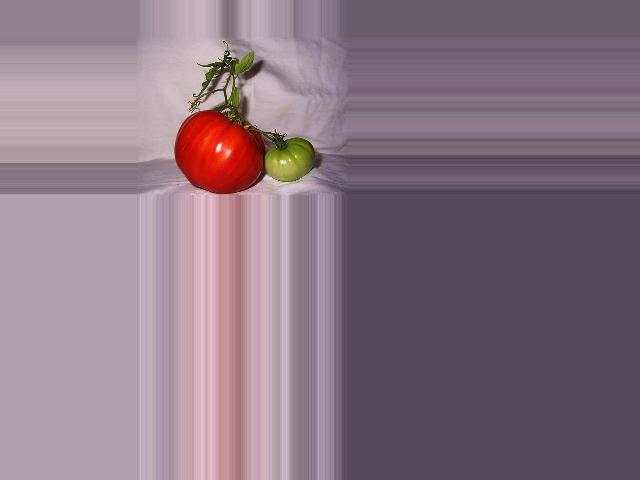tomato: (174, 110, 265, 193)
